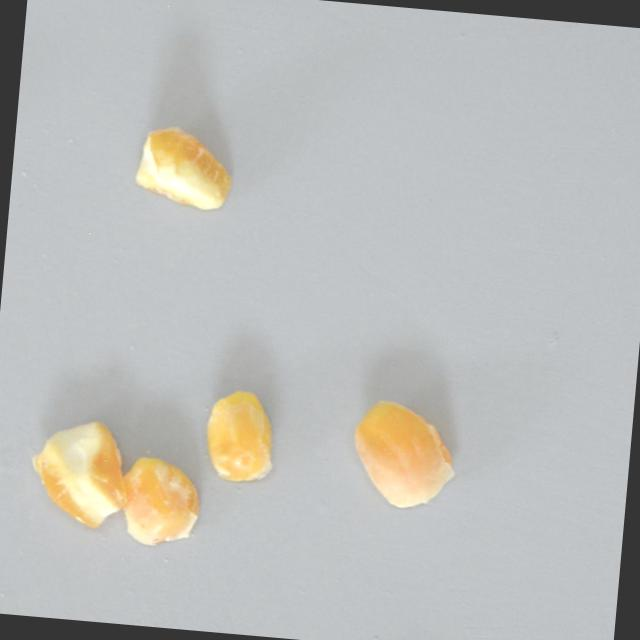pelicula: (342, 386, 466, 522), (26, 413, 134, 530), (126, 120, 237, 212), (112, 450, 204, 546), (197, 383, 278, 486)
